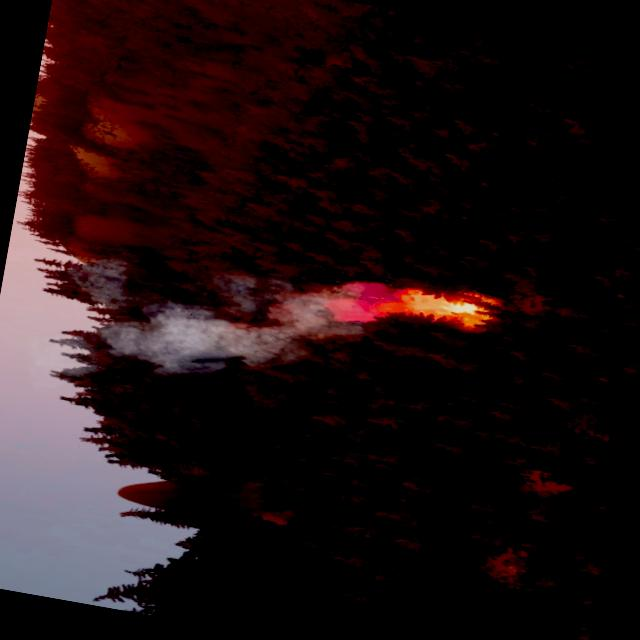fire: (316, 266, 504, 350)
smoke: (55, 243, 352, 399)
